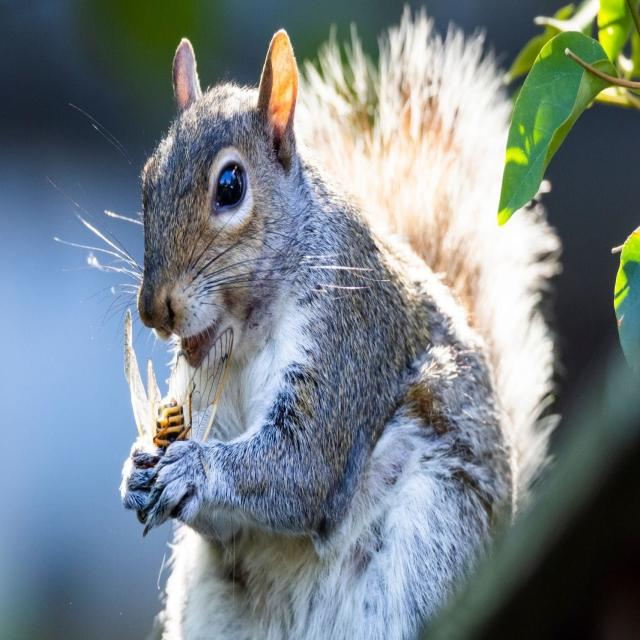Squirrel: (112, 32, 505, 629)
